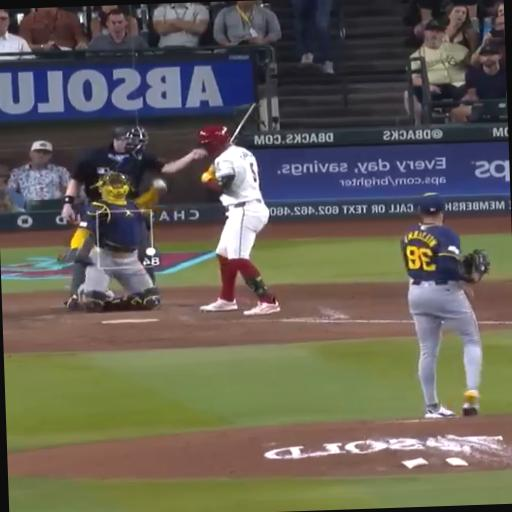bat: (230, 103, 256, 141)
